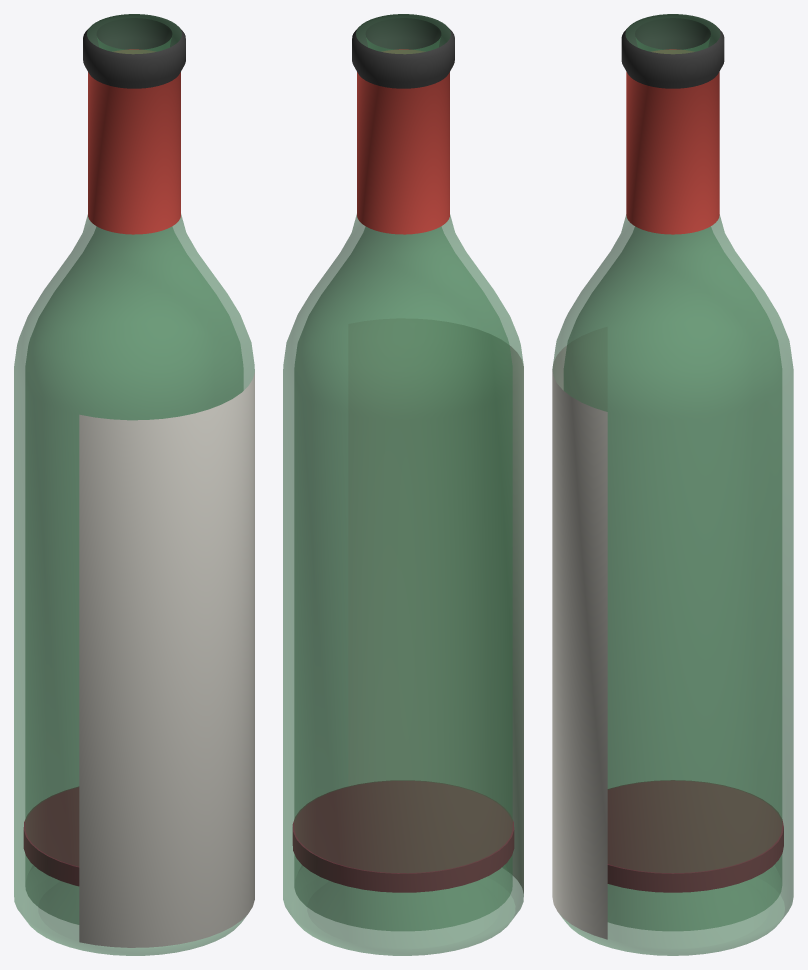
Rendered from kitchen_bottle_wine.fbx.
The picture shows the model from 3 angles, left to right: view 1: azimuth 30°, elevation 25°; view 2: azimuth 150°, elevation 25°; view 3: azimuth 270°, elevation 25°; orthographic projection.
Visible parts, largest first — view 1: kitchen_bottle_wine; view 2: kitchen_bottle_wine; view 3: kitchen_bottle_wine.
Part boxes in pixels (box(x1,y1,x2,y2)): kitchen_bottle_wine: box(14, 14, 254, 955); kitchen_bottle_wine: box(283, 14, 523, 955); kitchen_bottle_wine: box(552, 14, 793, 955).
Bounding box in the file's own units: 0.075 × 0.3 × 0.075.
